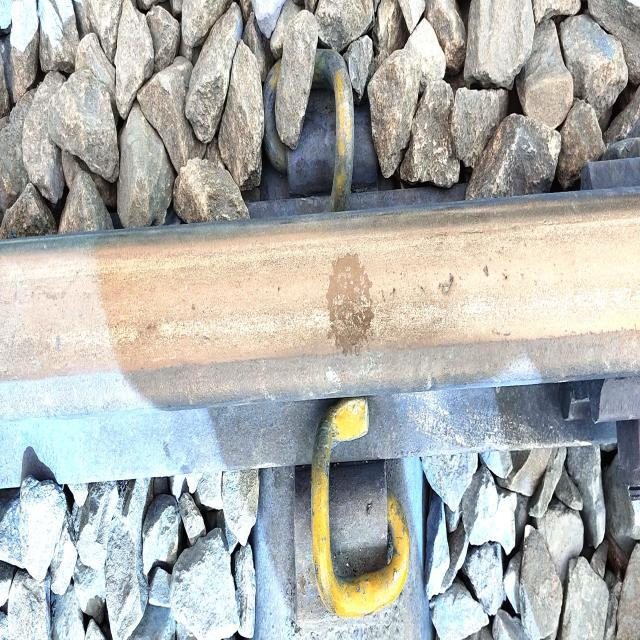Good Fasteners: (293, 397, 431, 638), (263, 11, 355, 212)
